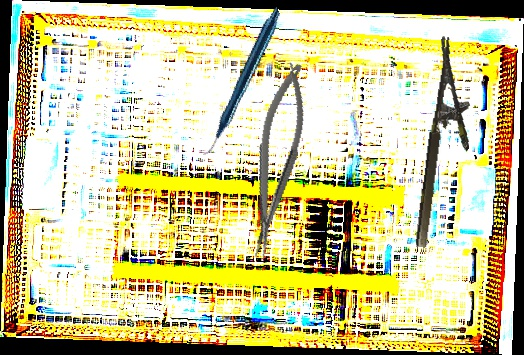Handpiece: (157, 6, 323, 156)
Needle Holder: (234, 59, 318, 261), (412, 36, 484, 252)
